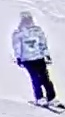skier: (12, 11, 65, 115)
